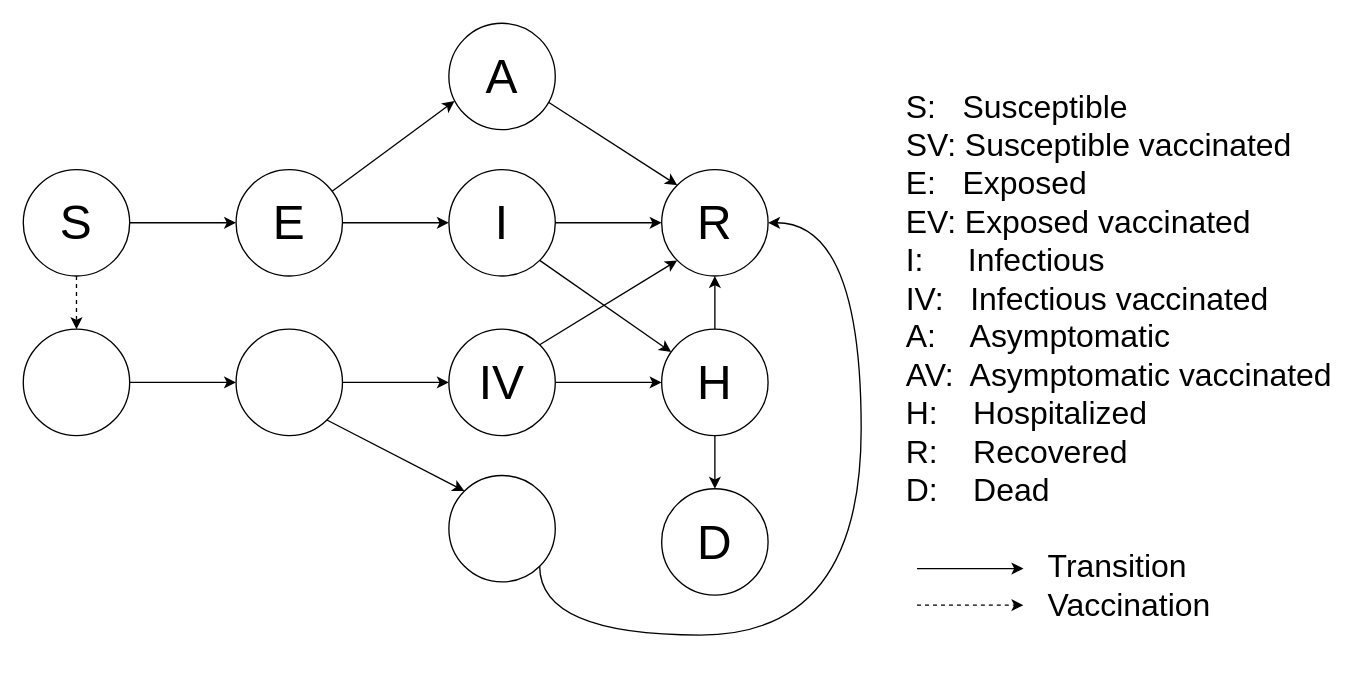
The diagram is 1355 pixels wide and 686 high, and some of its shapes have lost their labels. Here are the shapes that lost their labels. From the top down, the box of each, then its label:
(22, 328, 130, 436): SV
(235, 328, 342, 436): EV
(448, 474, 555, 582): AV
